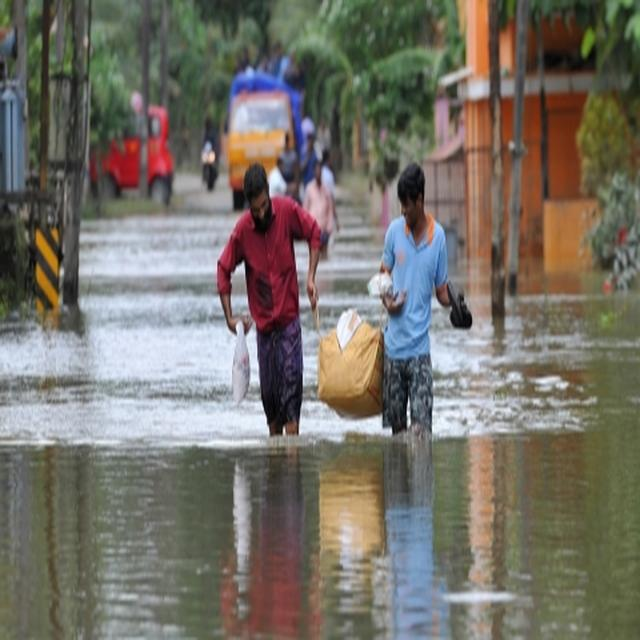Person-RiskLevel2: (204, 155, 332, 452), (362, 156, 475, 456)
